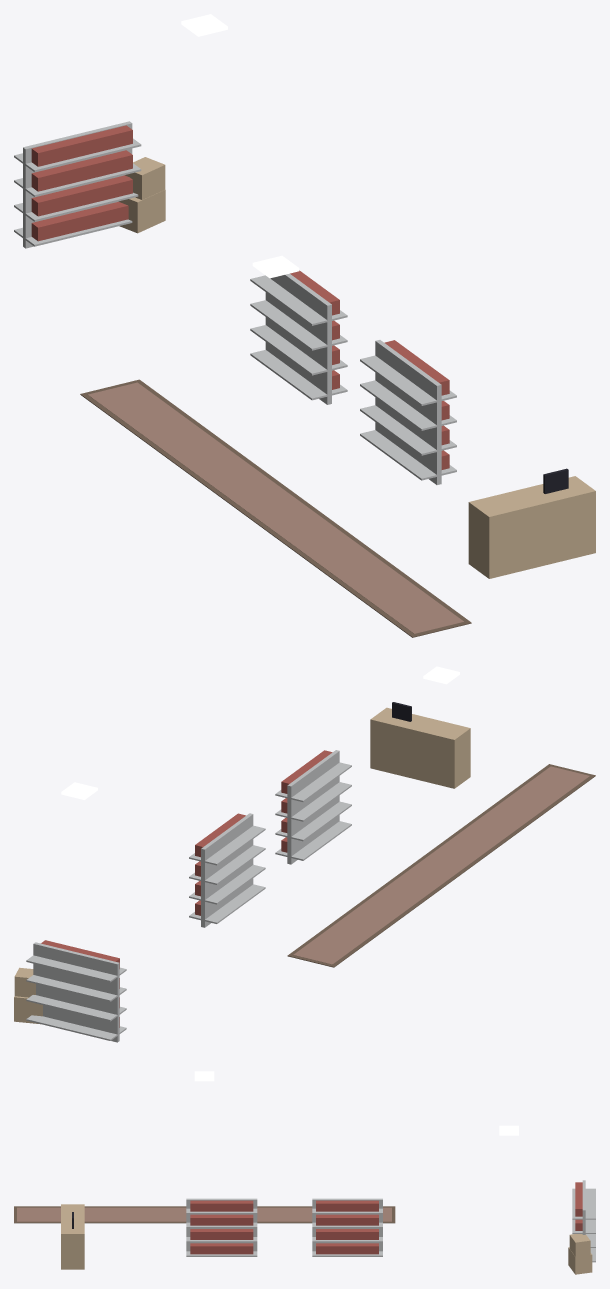
File: fine-s0.glb
3 renders of one model, top to bottom at view 1: azimuth 30°, elevation 25°; view 2: azimuth 150°, elevation 25°; view 3: azimuth 270°, elevation 25°, orthographic. The views are drawn at different scales.
Visible parts, largest first — view 1: soft-s0, shelving.000, shop-counter.000, shelf.001, shelf.000, cardboard-box.000; view 2: soft-s0, shelving.000, shop-counter.000, shelf.001, shelf.000, cardboard-box.000; view 3: shelf.001, shelf.000, soft-s0, shop-counter.000, shelving.000, cardboard-box.000.
Boxes of the visible parts, x1,y1,x2,y2 form: soft-s0: (80, 379, 471, 637); shelving.000: (14, 121, 141, 248); shop-counter.000: (468, 468, 595, 578); shelf.001: (360, 340, 456, 484); shelf.000: (250, 270, 347, 404); cardboard-box.000: (118, 157, 165, 233); soft-s0: (287, 764, 595, 967); shelving.000: (26, 940, 126, 1042); shop-counter.000: (370, 702, 470, 788); shelf.001: (275, 750, 351, 864); shelf.000: (189, 813, 265, 927); cardboard-box.000: (14, 967, 42, 1024); shelf.001: (186, 1198, 257, 1256); shelf.000: (312, 1198, 382, 1256); soft-s0: (14, 1206, 395, 1223); shop-counter.000: (61, 1204, 84, 1269); shelving.000: (572, 1180, 595, 1262); cardboard-box.000: (568, 1234, 592, 1274).
Size of the model in its own units: 4.09 by 3.93 by 14.81.
